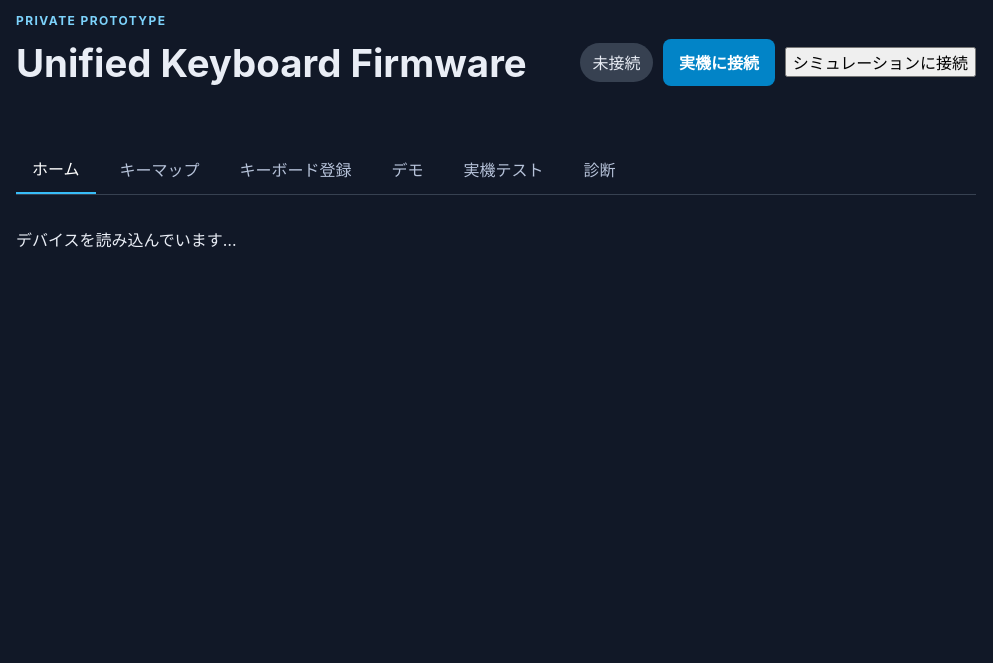
Test: bridge configuration › simulates merging USB A and Bluetooth B
This screenshot has width=993, height=663.
Step 1. Click the button "デモ" → (408, 169), box [376,144,440,194]
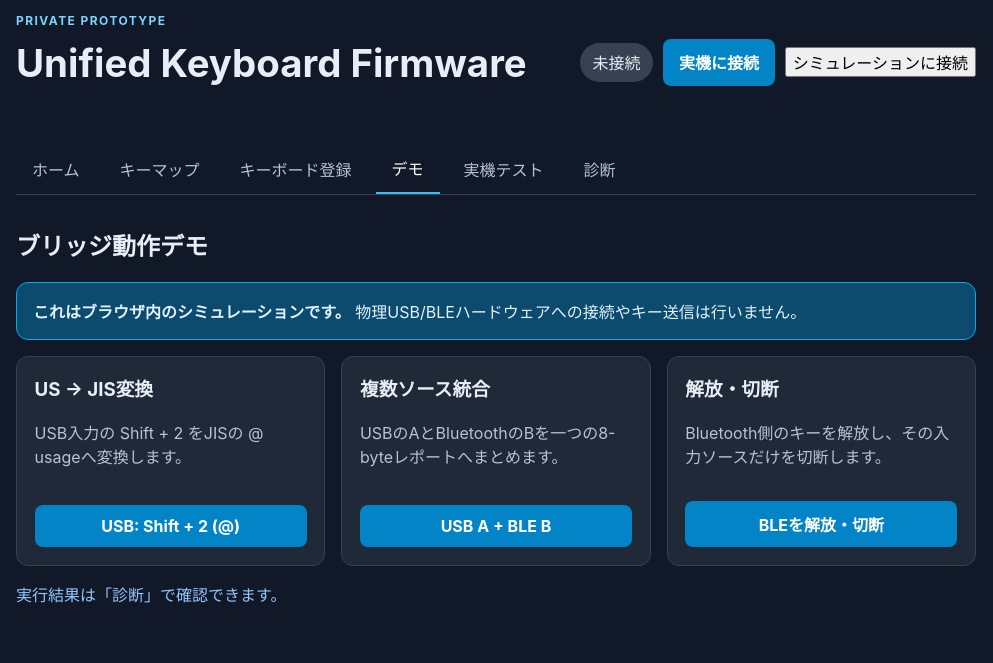
Step 2. Click the button "USB A + BLE B" → (496, 526), box [360,505,632,547]
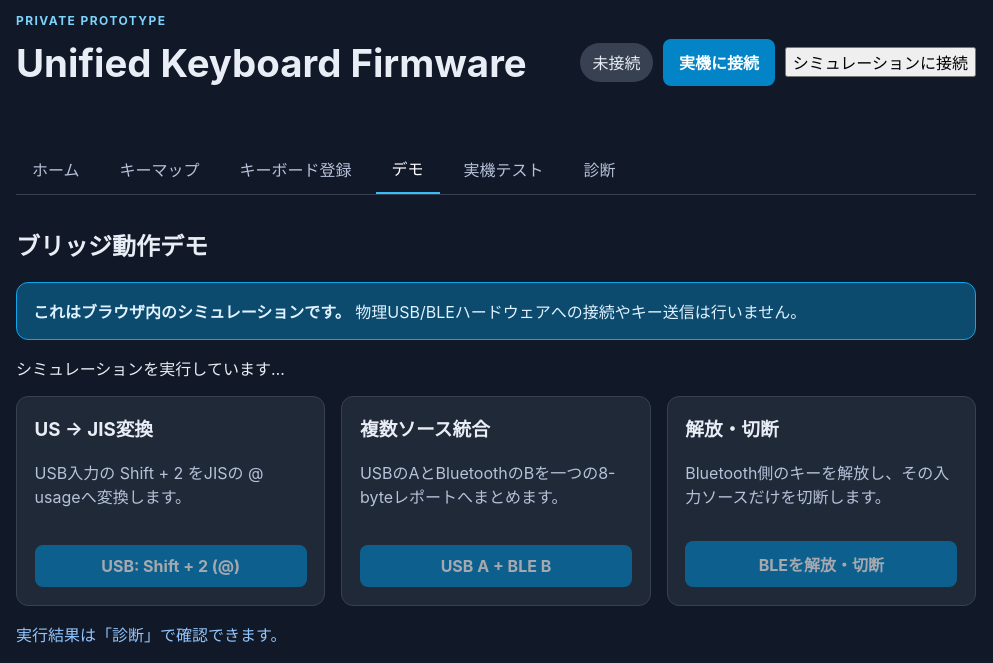
Step 3. Click the button "診断" → (600, 169), box [568,144,632,194]
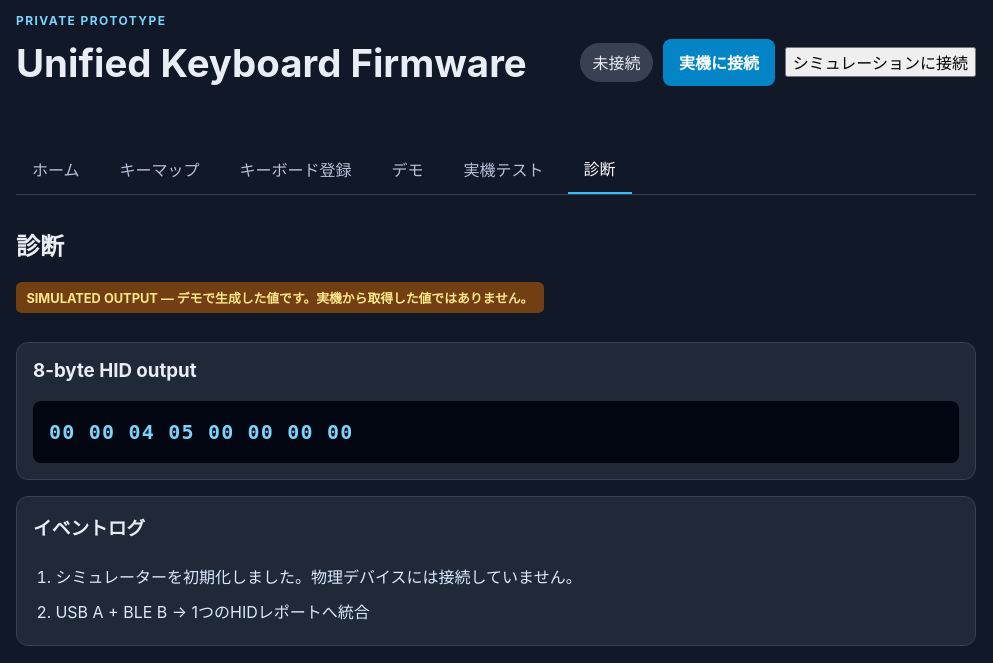
Now the text "00 00 04 05 00 00 00 00" is shown, box [33,401,959,463]
Now the list item "USB A + BLE B → 1つのHIDレポートへ統合" is shown, box [55,602,370,622]
